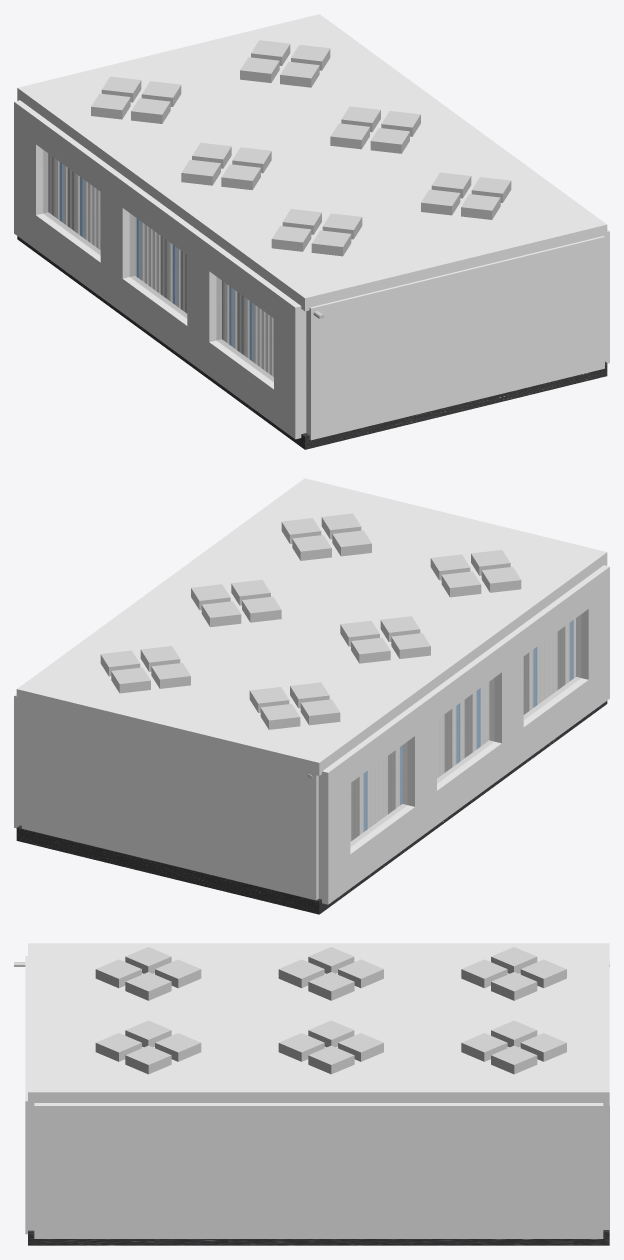
File: физика.fbx
The picture shows the model from 3 angles, top to bottom: view 1: azimuth 30°, elevation 25°; view 2: azimuth 150°, elevation 25°; view 3: azimuth 270°, elevation 25°; orthographic projection.
Parts seen in each view (by area): view 1: Cube.005, Cube, Cube.001, Cube.004, Куб.387, Куб.385, Куб.386, Куб.358, Куб.360, Куб.344, Куб.376, Куб.352 (+20 smaller); view 2: Cube.005, Cube.002, Cube.001, Cube.004, Куб.385, Куб.386, Куб.387, Cube.003, Куб.344, Куб.372, Куб.356, Куб.340 (+20 smaller); view 3: Cube.003, Cube.005, Cube.004, Cube, Куб.346, Куб.354, Куб.362, Куб.338, Куб.378, Куб.370, Cube.002, Куб.350 (+17 smaller).
Part boxes in pixels (box(x1,y1,x2,y2)): Cube.005: box(17, 14, 607, 311); Cube: box(306, 236, 604, 440); Cube.001: box(14, 100, 306, 439); Cube.004: box(17, 236, 607, 449); Куб.387: box(43, 150, 100, 255); Куб.385: box(216, 277, 273, 381); Куб.386: box(130, 214, 186, 317); Куб.358: box(311, 230, 351, 256); Куб.360: box(271, 226, 311, 251); Куб.344: box(91, 93, 130, 119); Куб.376: box(330, 123, 369, 149); Куб.352: box(181, 159, 220, 185); Cube.005: box(16, 478, 607, 775); Cube.002: box(22, 703, 318, 900); Cube.001: box(318, 565, 609, 904); Cube.004: box(16, 701, 607, 914); Куб.385: box(524, 614, 581, 719); Куб.386: box(437, 678, 494, 783); Куб.387: box(350, 742, 407, 846); Cube.003: box(14, 694, 21, 828); Куб.344: box(300, 699, 340, 725); Куб.372: box(201, 601, 241, 627); Куб.356: box(441, 571, 481, 597); Куб.340: box(260, 704, 300, 729); Cube.003: box(34, 1103, 603, 1238); Cube.005: box(28, 943, 609, 1105); Cube.004: box(28, 1106, 609, 1245); Cube: box(25, 956, 34, 1234); Куб.346: box(308, 972, 354, 1000); Куб.354: box(125, 972, 171, 1000); Куб.362: box(125, 1045, 171, 1074); Куб.338: box(491, 972, 537, 1000); Куб.378: box(491, 1045, 537, 1074); Куб.370: box(308, 1045, 354, 1074); Cube.002: box(603, 1105, 609, 1229); Куб.350: box(278, 959, 324, 988).
Bounding box in the file's own units: 1497 × 732 × 2432.
